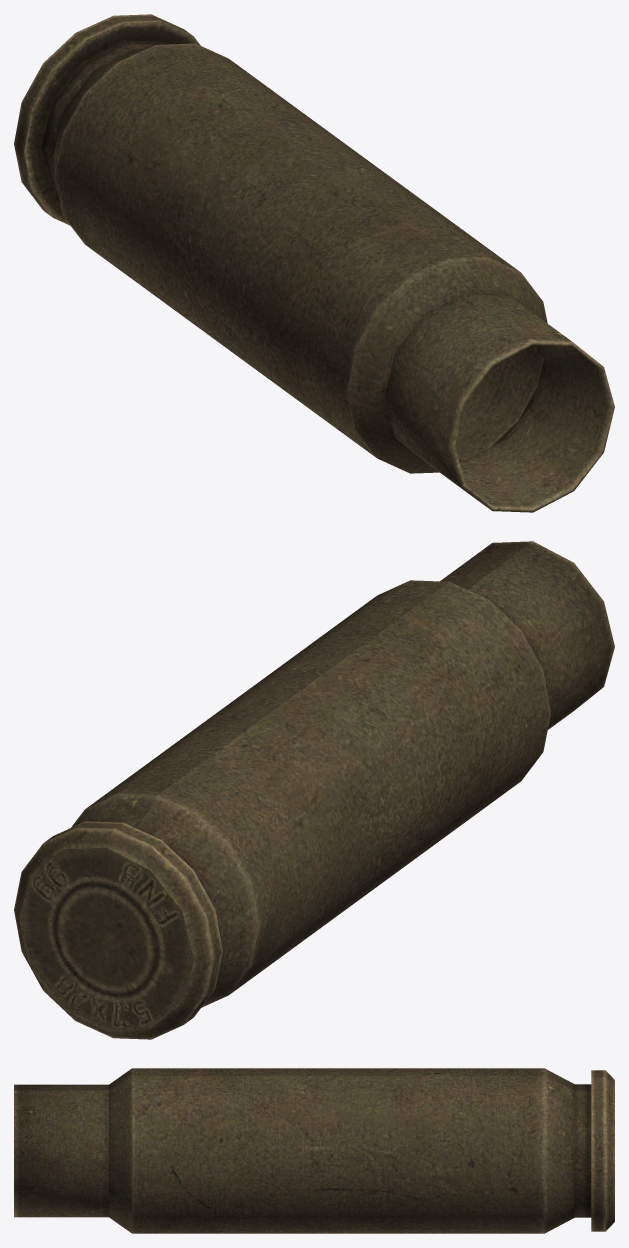
File: casing.fbx
3 renders of one model, top to bottom at view 1: azimuth 30°, elevation 25°; view 2: azimuth 150°, elevation 25°; view 3: azimuth 270°, elevation 25°, orthographic. The views are drawn at different scales.
Visible parts, largest first — view 1: patron_57x28_ss190_shell_LOD0; view 2: patron_57x28_ss190_shell_LOD0; view 3: patron_57x28_ss190_shell_LOD0.
Boxes of the visible parts, box(x1,y1,x2,y2) form: patron_57x28_ss190_shell_LOD0: box(14, 14, 614, 512); patron_57x28_ss190_shell_LOD0: box(14, 541, 614, 1039); patron_57x28_ss190_shell_LOD0: box(14, 1068, 614, 1233).
Bounding box in the file's own units: 0.7946 × 0.7946 × 2.88.
